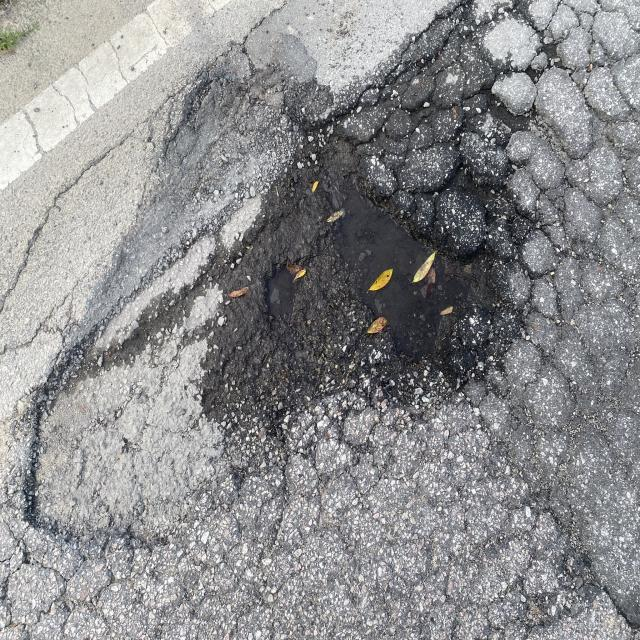Pothole: (205, 55, 564, 448), (0, 314, 104, 594)
